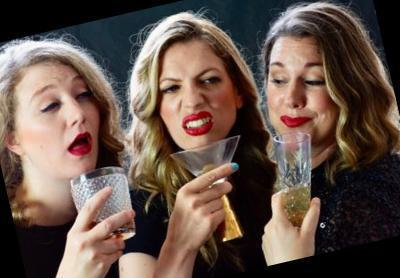Drunk: (20, 68, 98, 170), (160, 50, 237, 141), (269, 40, 335, 138)
